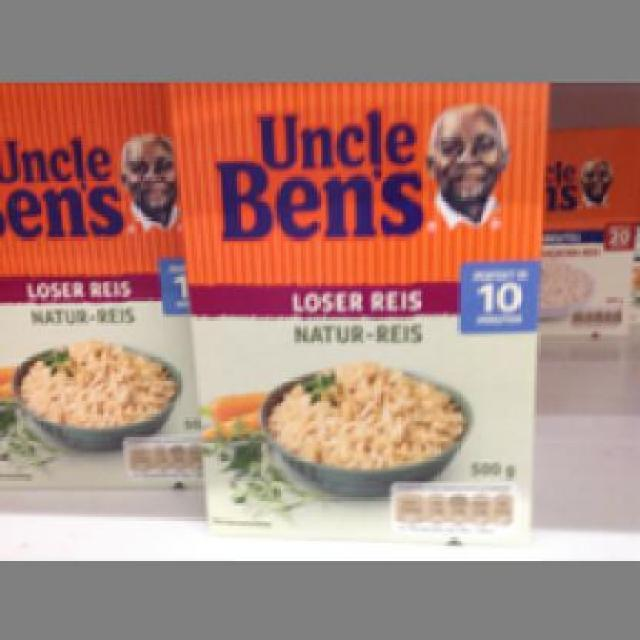Rice: (166, 80, 548, 526), (0, 83, 197, 486), (537, 123, 634, 334)
